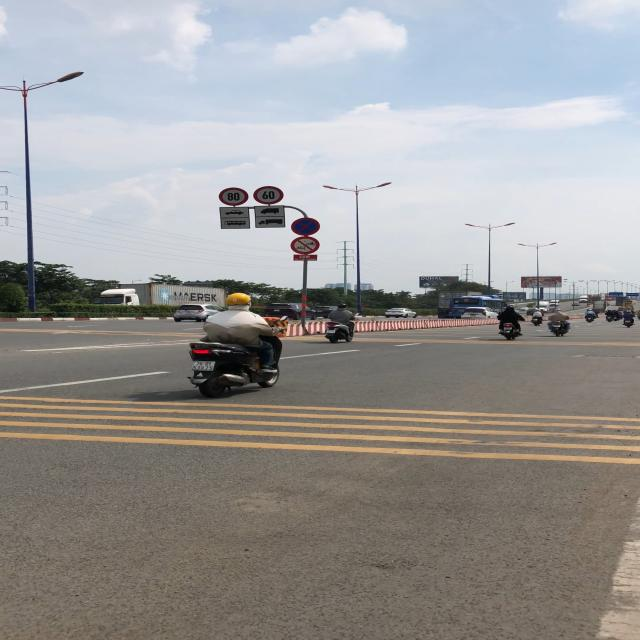Bien bao cam dung xe va do xe: (290, 217, 322, 236)
Bien bao toc do toi da cho phep: (218, 186, 250, 207), (253, 185, 284, 206)
